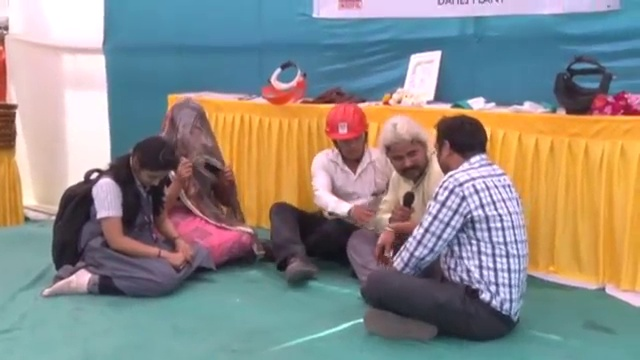helmet: (326, 103, 370, 140)
helmet_off: (430, 113, 492, 180), (378, 116, 435, 185), (164, 102, 214, 171), (125, 135, 177, 195)
helmet_on: (324, 103, 372, 166)
person: (363, 115, 534, 341), (48, 140, 199, 299), (268, 104, 391, 278), (142, 97, 251, 271), (349, 114, 447, 281)
